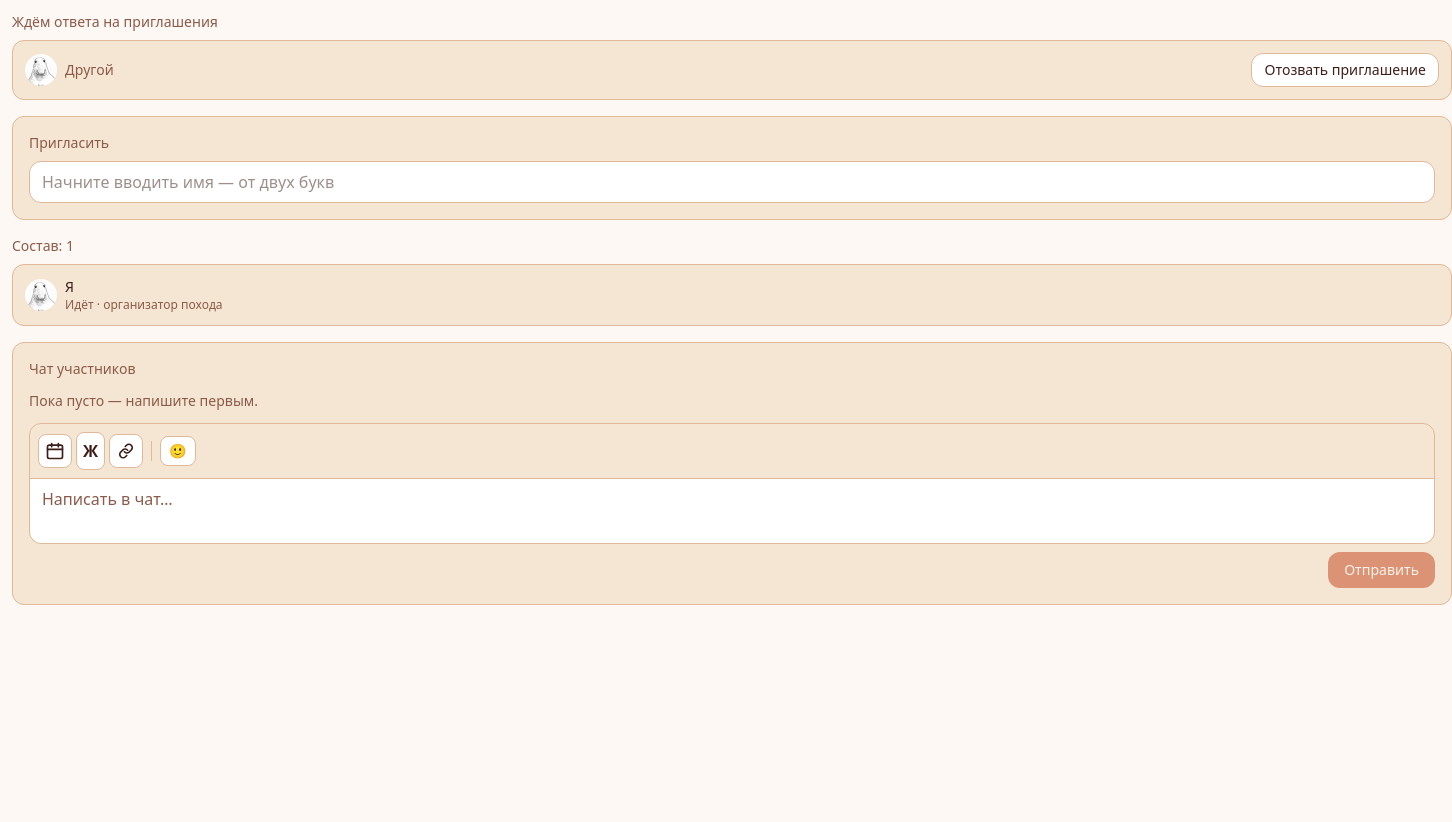
Scenario: TripParticipants › уже приглашённых в подсказках не повторяет
The width and height of the screenshot is (1452, 822).
Step 1. Type "Напа" into the search field with test id "invite-search" → point(732, 182), box [29, 161, 1435, 203]
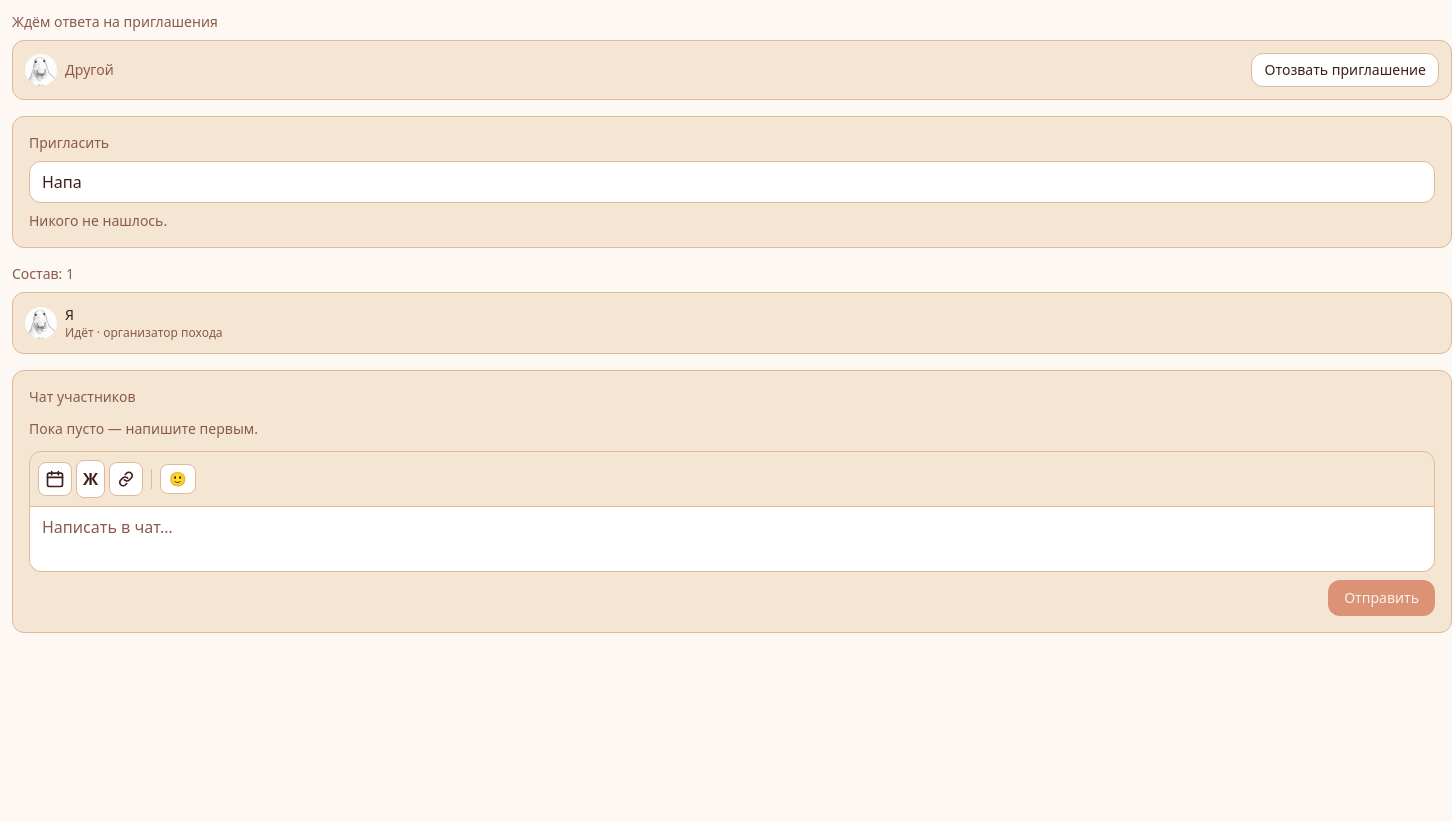
expect the text "Никого не нашлось." is shown: met, box [29, 211, 167, 230]
